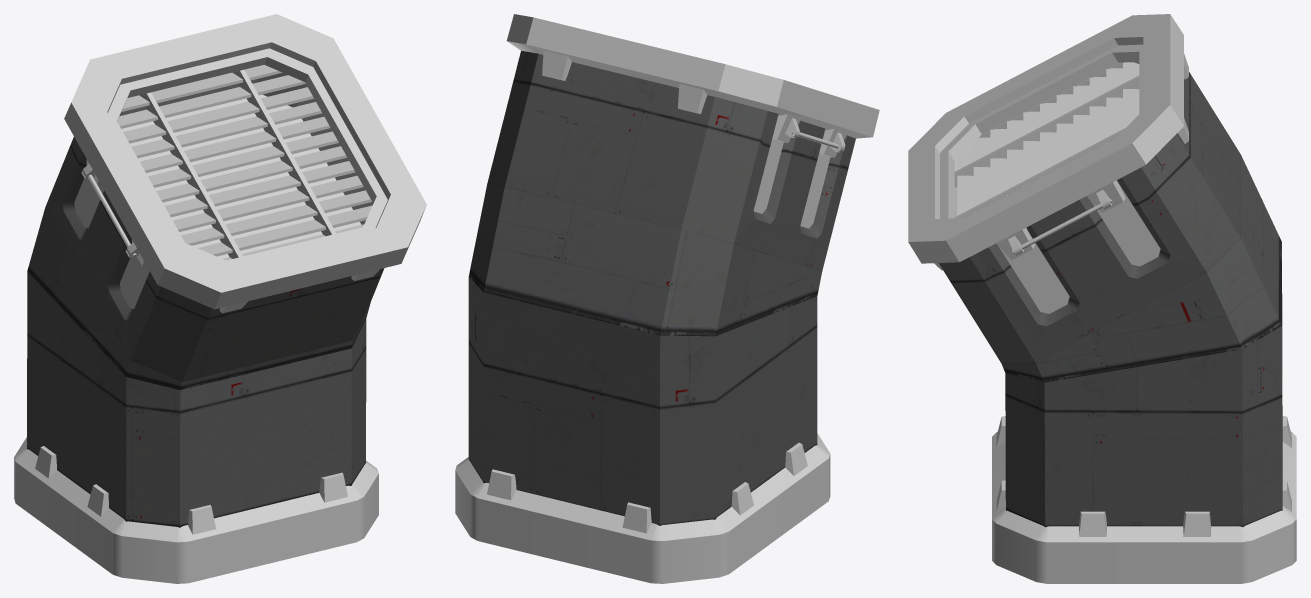
File: Prop_Went_big1_L1.fbx
The picture shows the model from 3 angles, left to right: view 1: azimuth 30°, elevation 25°; view 2: azimuth 150°, elevation 25°; view 3: azimuth 270°, elevation 25°; orthographic projection. The views are drawn at different scales.
Visible parts, largest first — view 1: polySurface237; view 2: polySurface237; view 3: polySurface237.
Boxes of the visible parts, <box> form: polySurface237: <box>14,14,426,583</box>; polySurface237: <box>455,14,879,583</box>; polySurface237: <box>908,14,1296,583</box>.
Size of the model in its own units: 149 by 248 by 190.
